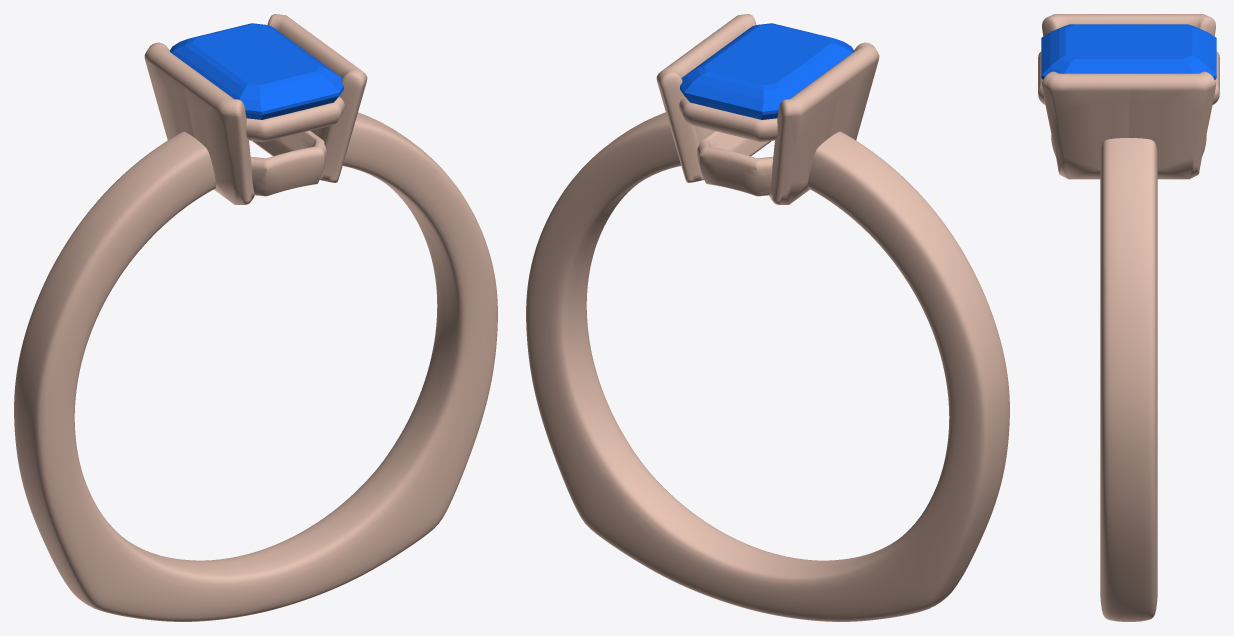
Rendered from bluesapphire-emerald-rosegold-halfmoonbezel-europeanshank-solitaire.glb.
3 renders of one model, left to right at view 1: azimuth 30°, elevation 25°; view 2: azimuth 150°, elevation 25°; view 3: azimuth 270°, elevation 25°, orthographic.
Parts seen in each view (by area): view 1: metal, stone; view 2: metal, stone; view 3: metal, stone.
Boxes of the visible parts, x1,y1,x2,y2 form: metal: (14, 14, 497, 621); stone: (170, 23, 343, 119); metal: (526, 14, 1009, 621); stone: (680, 23, 853, 119); metal: (1038, 14, 1219, 621); stone: (1041, 24, 1216, 79).
Size of the model in its own units: 20.11 by 22.74 by 6.94.
